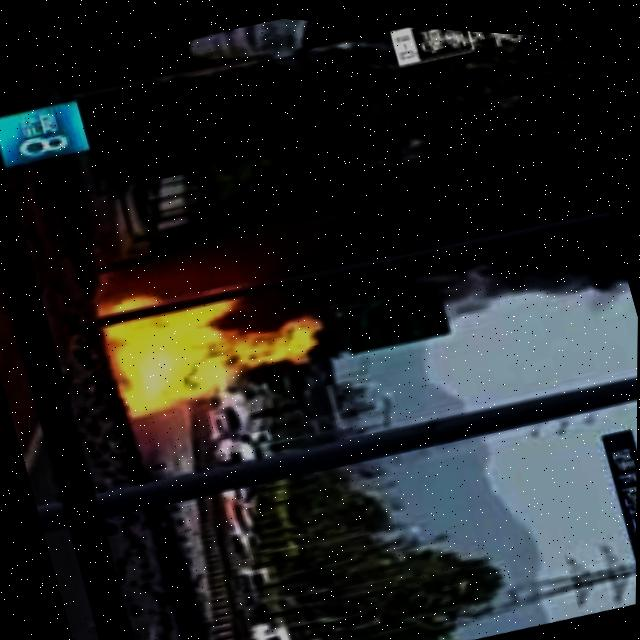Fire: (105, 297, 317, 423), (82, 266, 226, 359)
Smoke: (209, 88, 627, 369)
